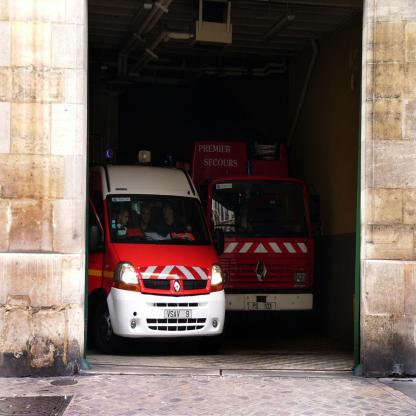Ambulance: (87, 149, 227, 355), (190, 142, 325, 319)
